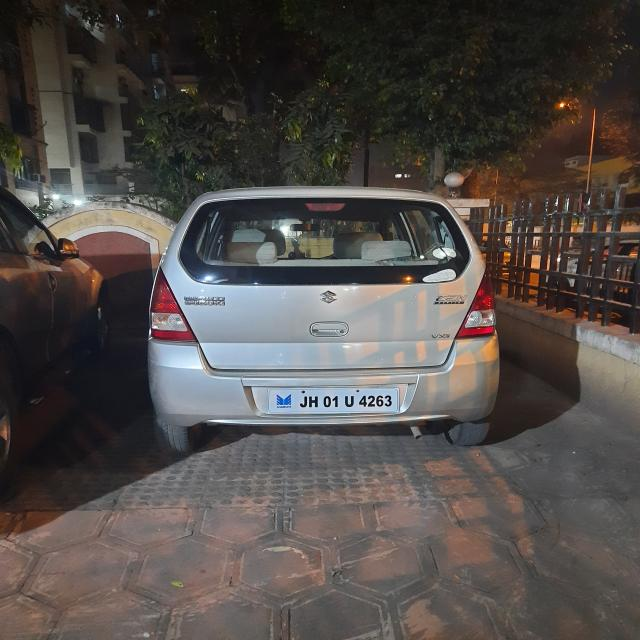Number-Plate: (271, 389, 399, 410)
